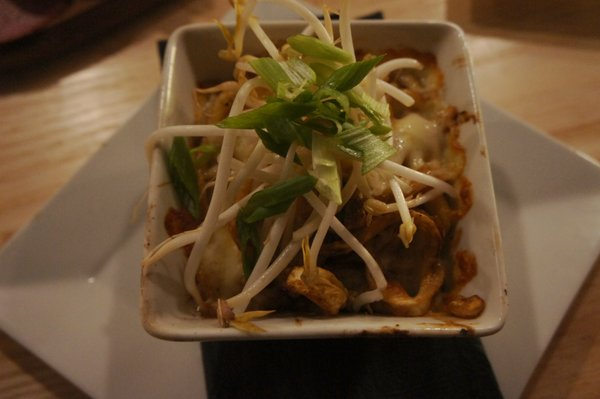sushi: (128, 24, 511, 344)
